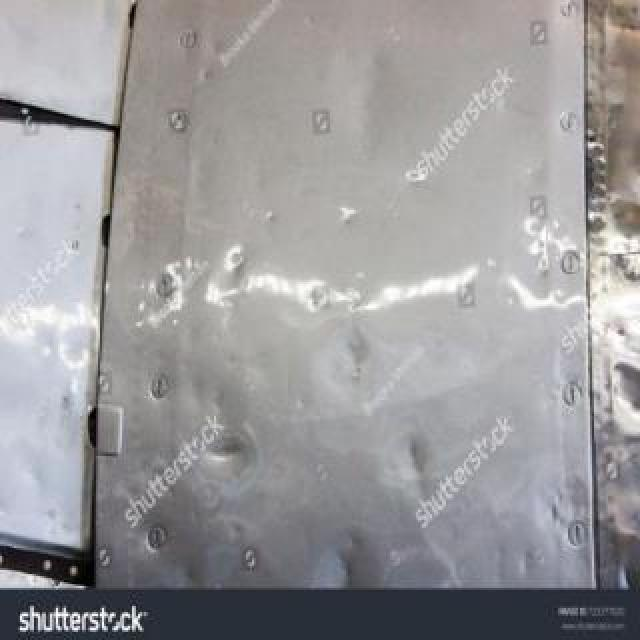dent: (209, 436, 261, 464), (402, 432, 430, 484)
